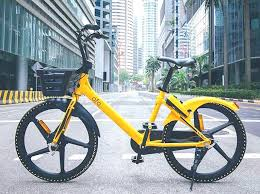bicycle: (13, 20, 248, 188)
